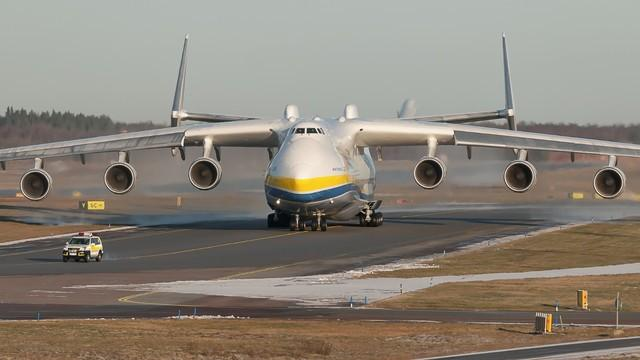airplane: (1, 31, 640, 235)
